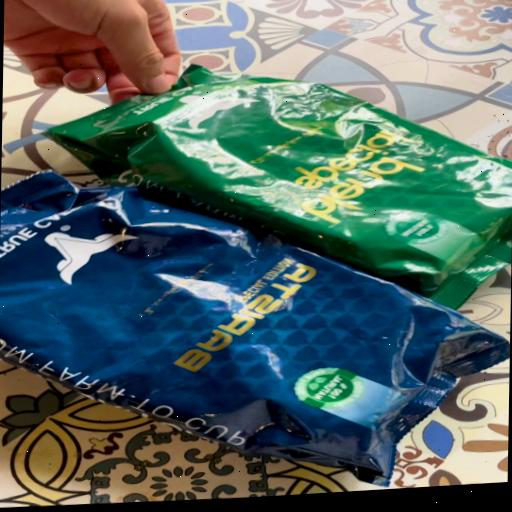cafe_hat: (0, 172, 510, 485)
cafe_xay: (49, 65, 512, 309)
